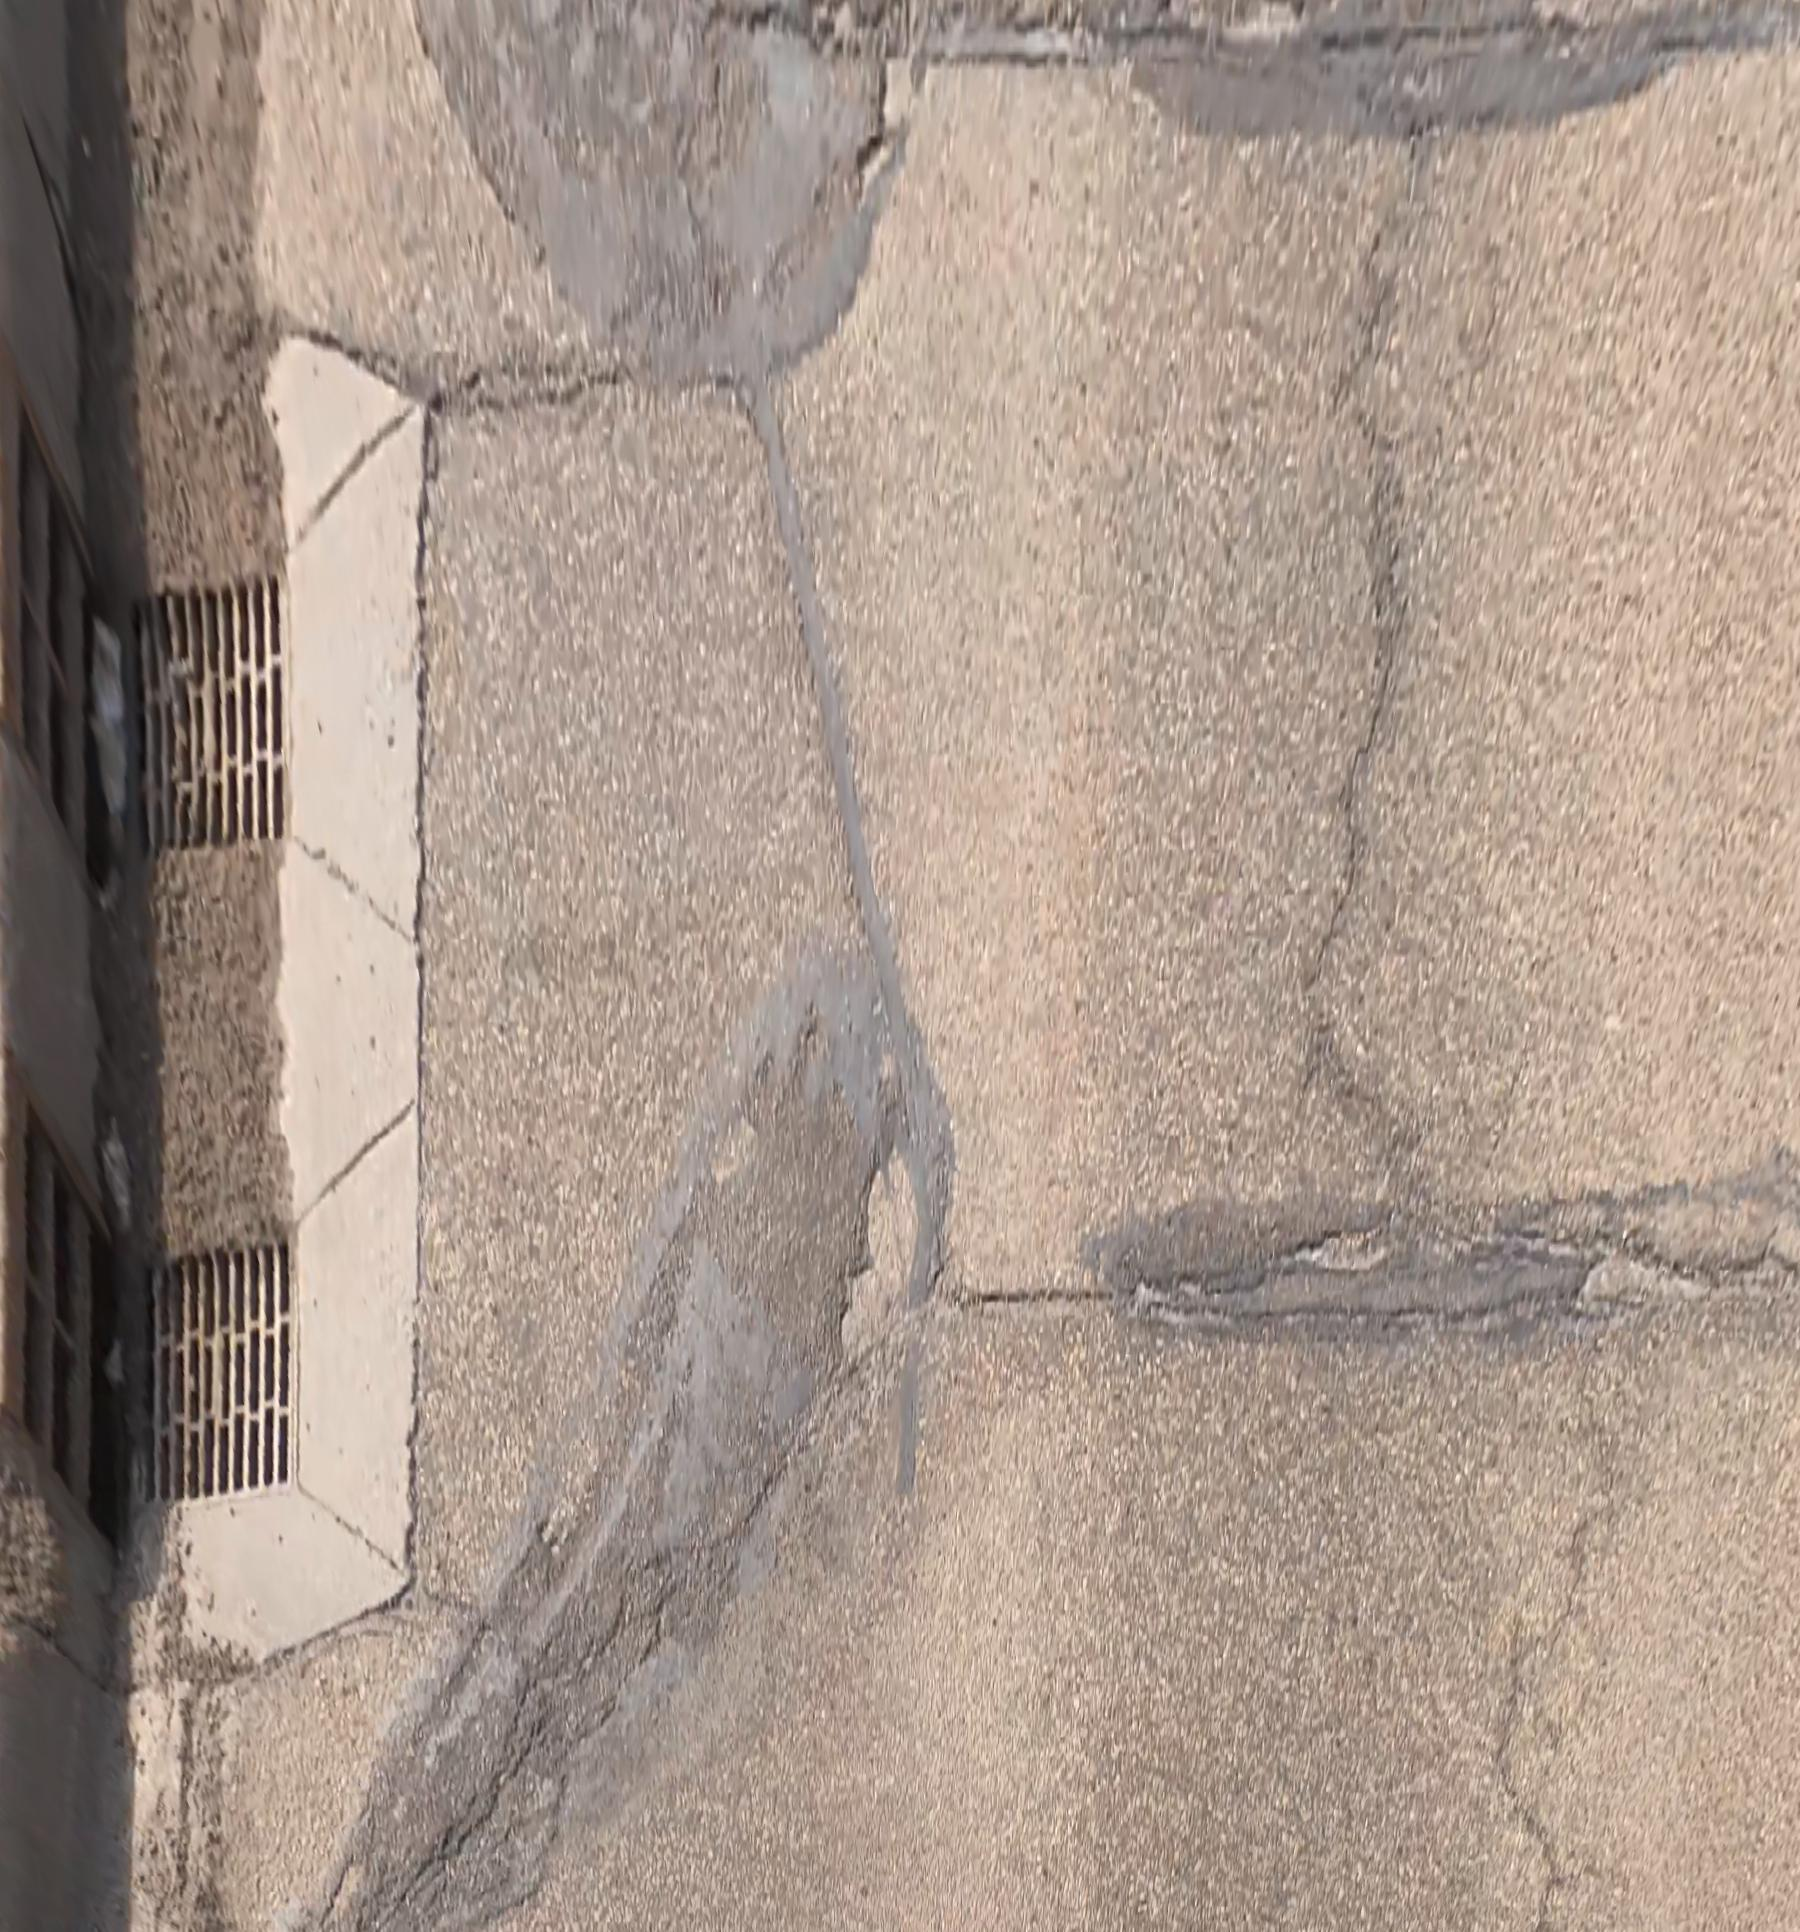pothole_patch_poor: (288, 939, 944, 1932), (416, 0, 881, 382), (1091, 1157, 1800, 1328), (927, 0, 1800, 132)
